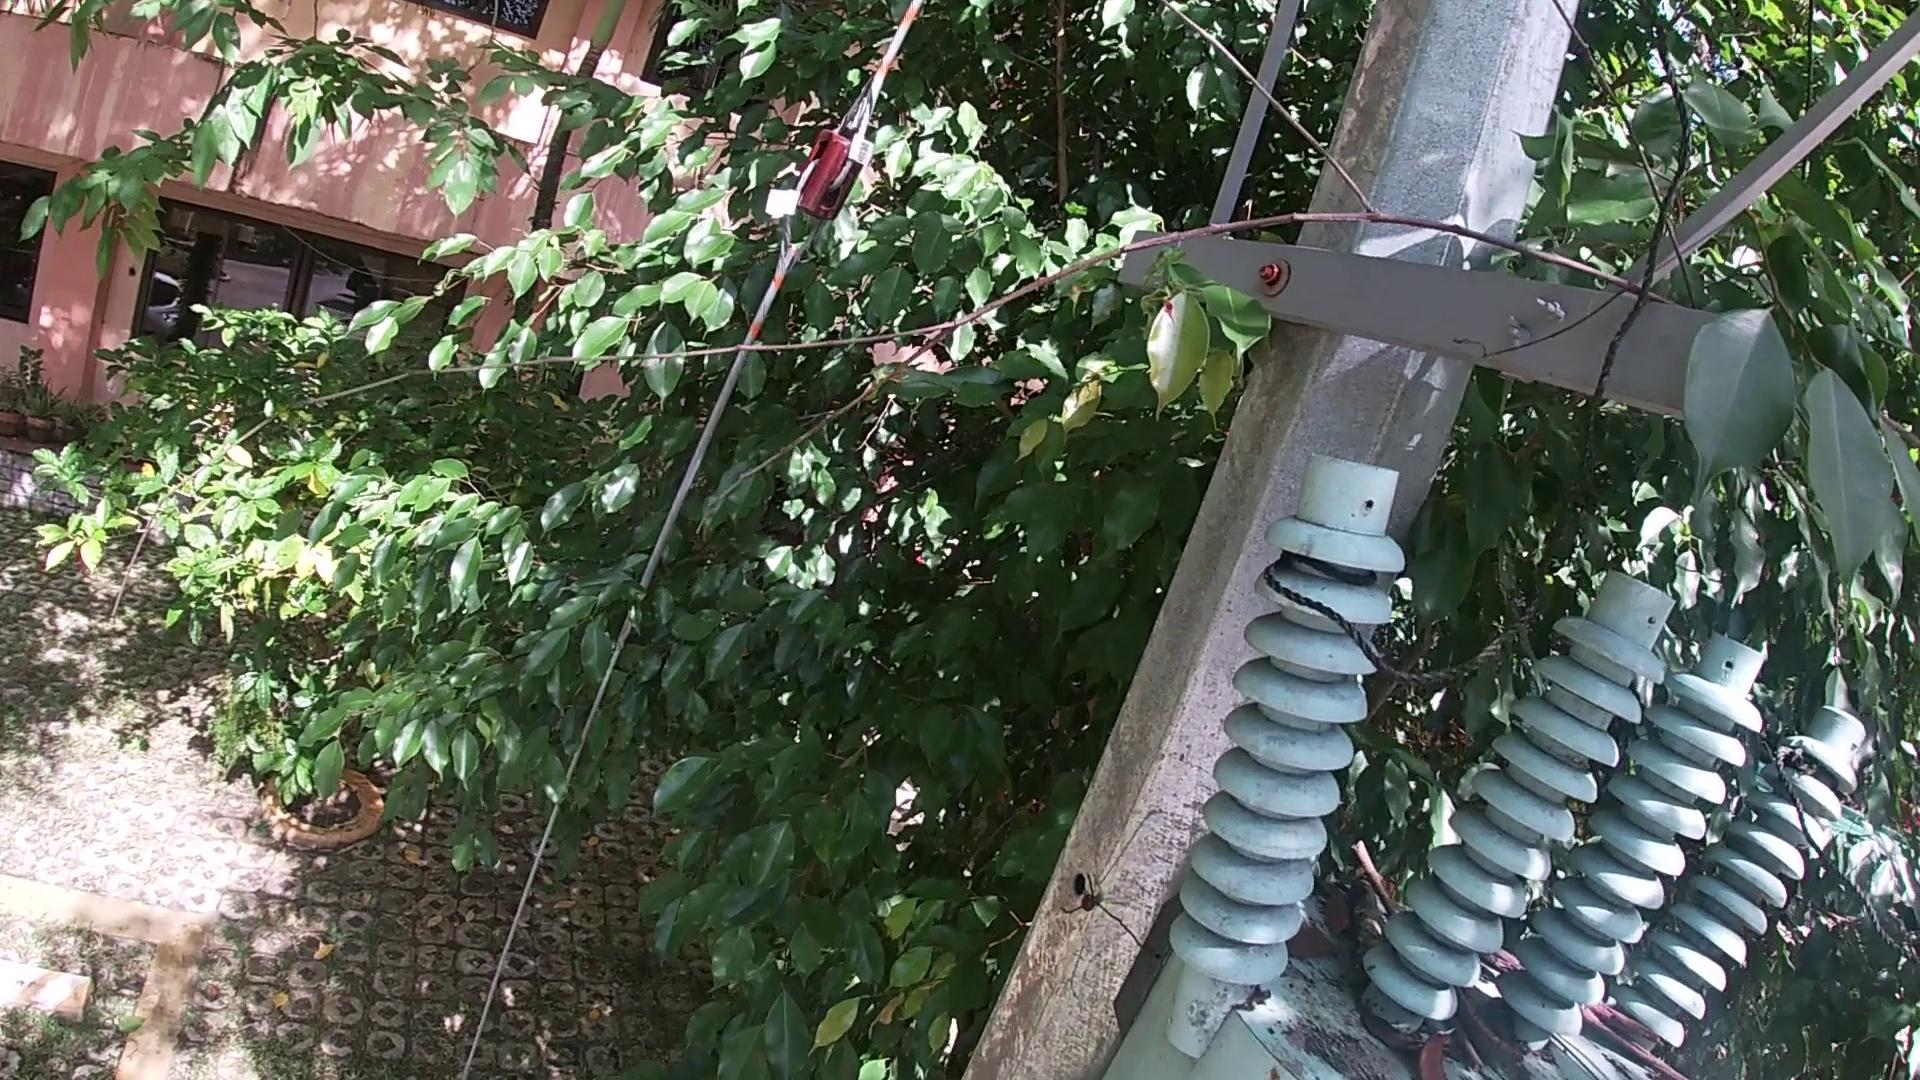leaf: (1369, 998, 1420, 1062), (1324, 890, 1348, 942), (1292, 934, 1337, 957)
mahogany fruit: (1462, 981, 1538, 1071), (1422, 1027, 1458, 1080)
tree branch: (80, 17, 1721, 641), (1578, 994, 1710, 1073), (1349, 837, 1394, 910), (1349, 865, 1371, 961), (1455, 1014, 1485, 1071), (1477, 945, 1519, 972)
